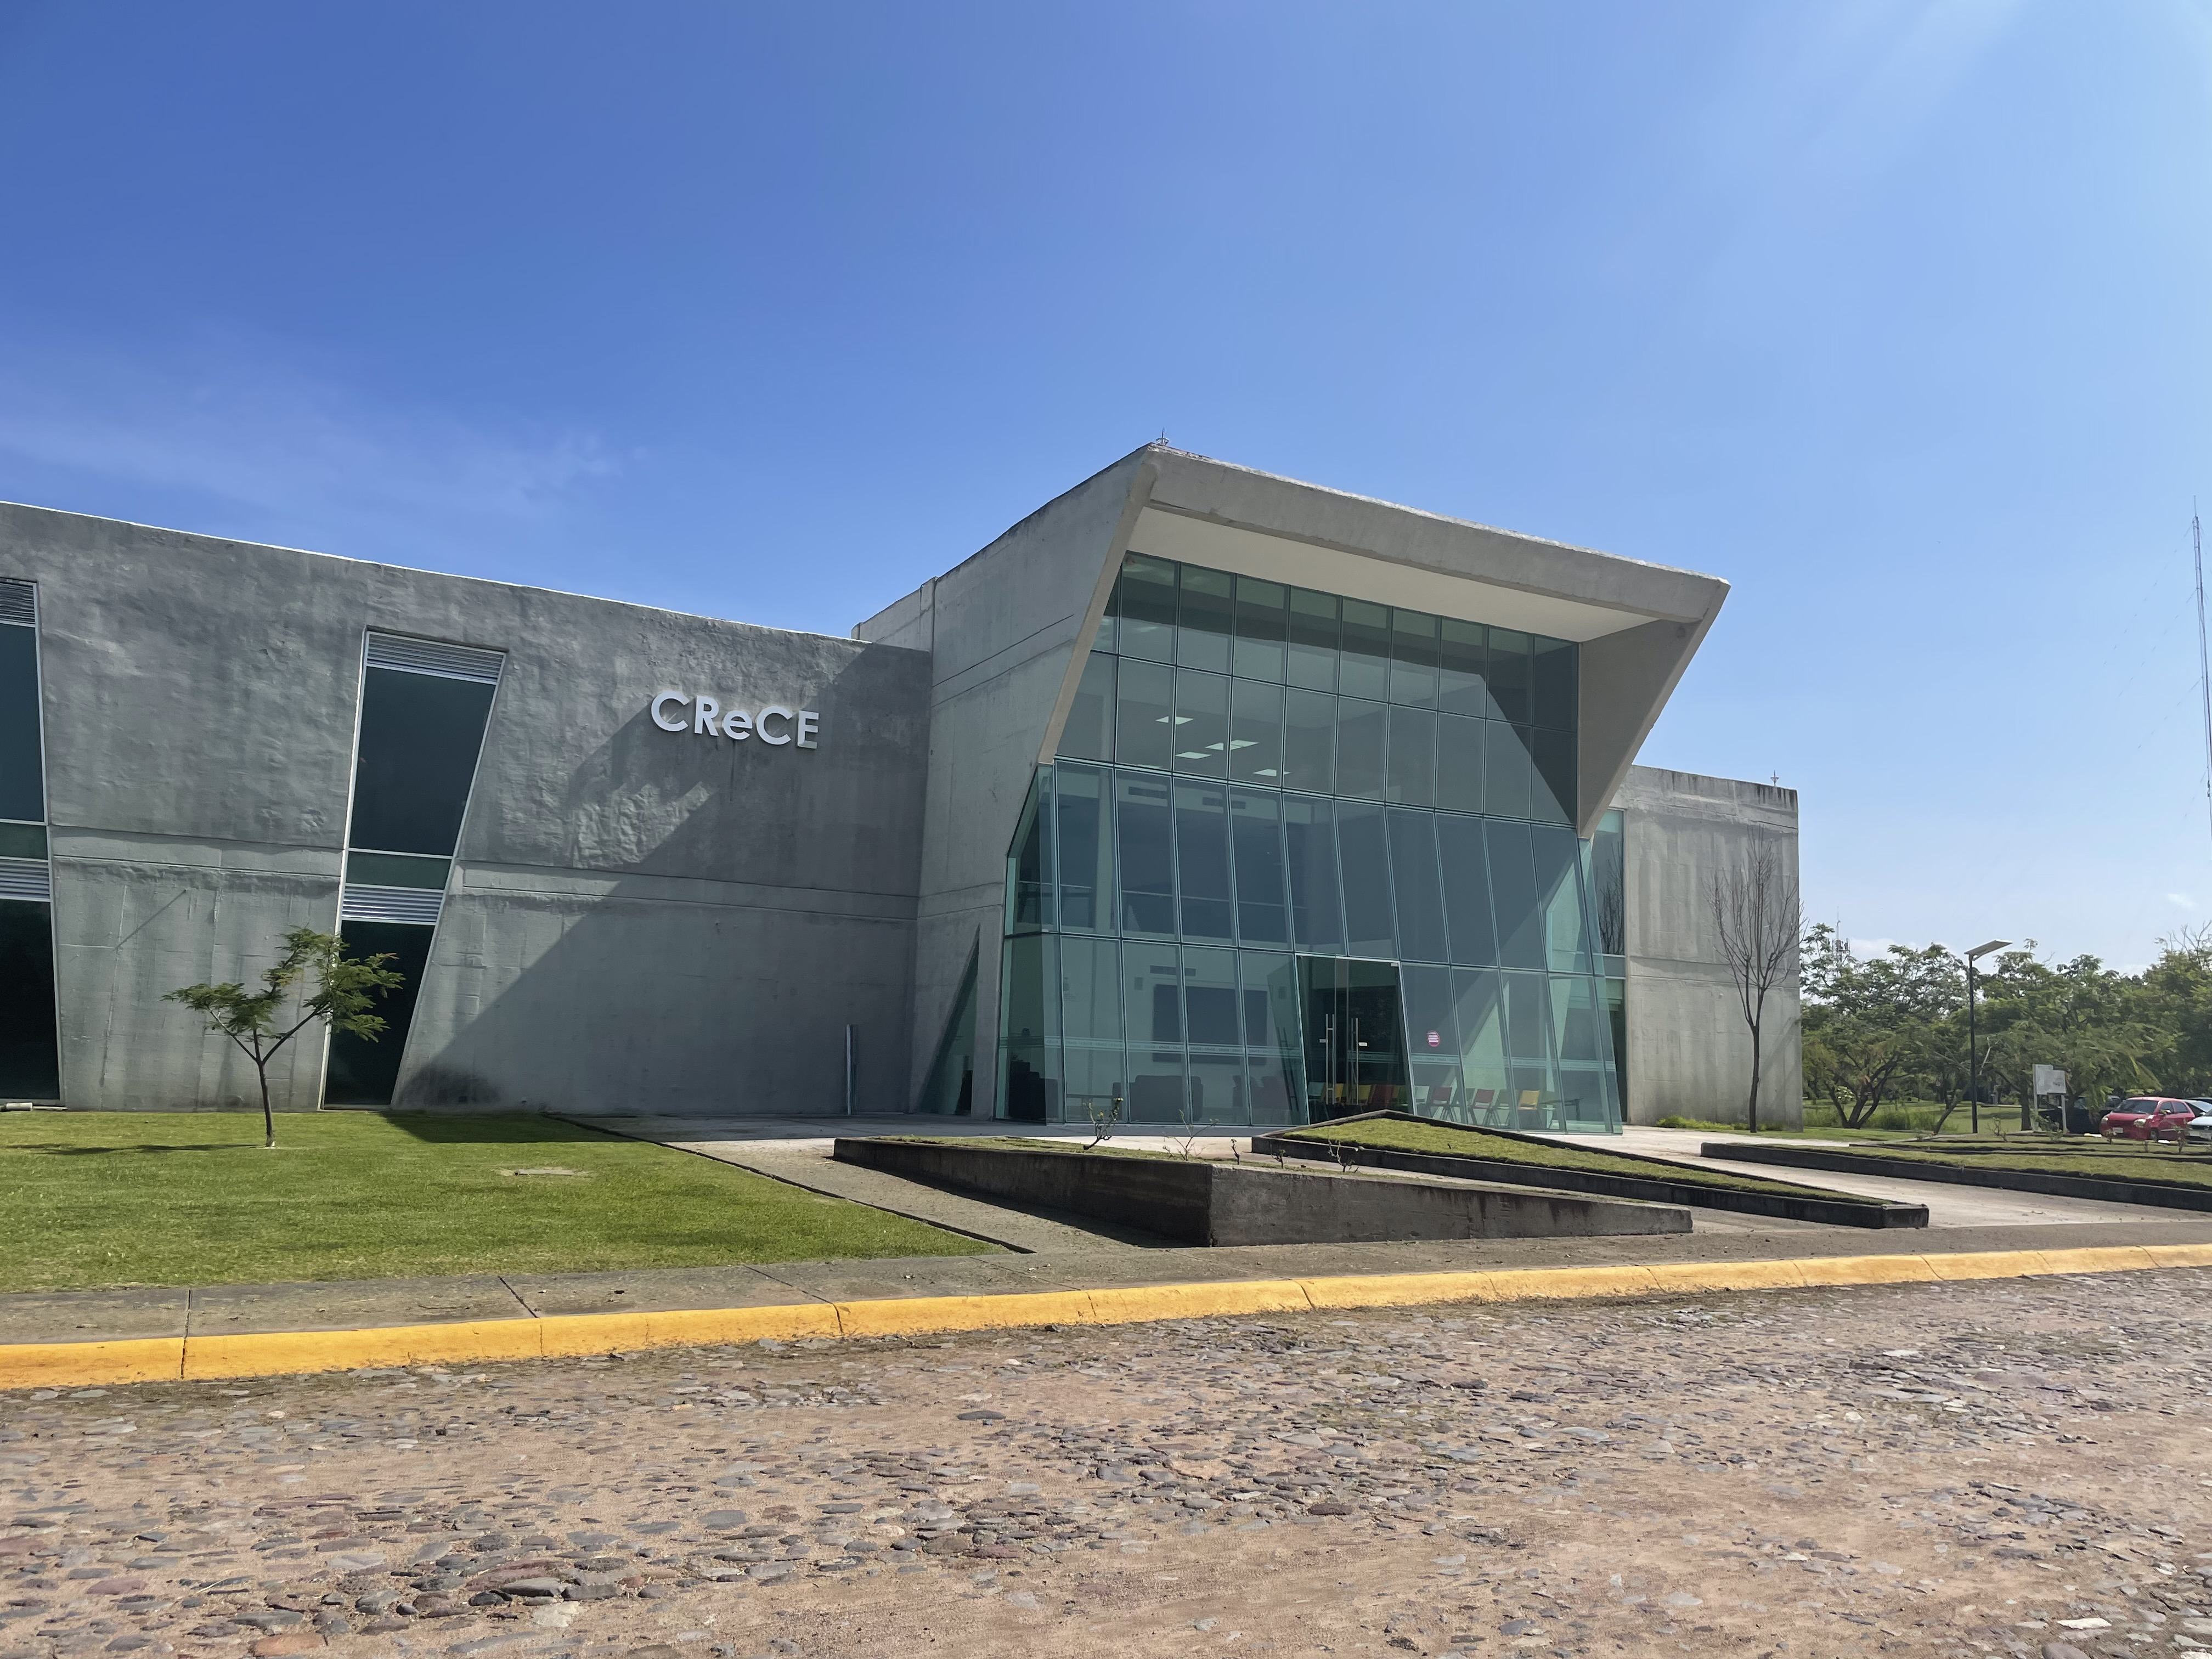crece: (16, 364, 1888, 1176)
